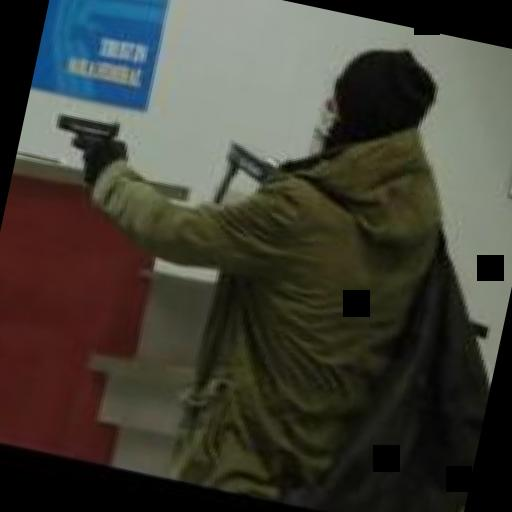Handgun: (41, 104, 127, 180)
